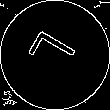L_SE: (26, 29, 84, 81)
